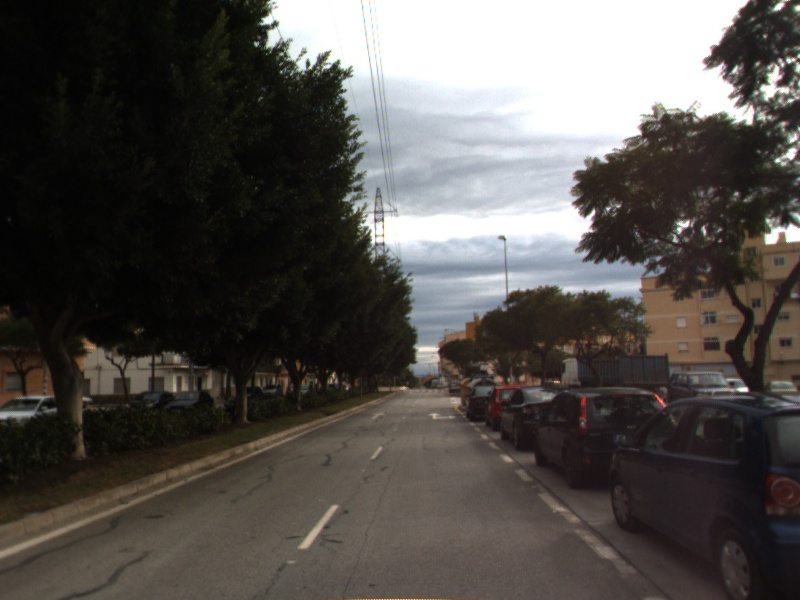STRAIGHT: (368, 409, 388, 422)
STRAIGHT_RIGHT: (426, 410, 460, 422)
